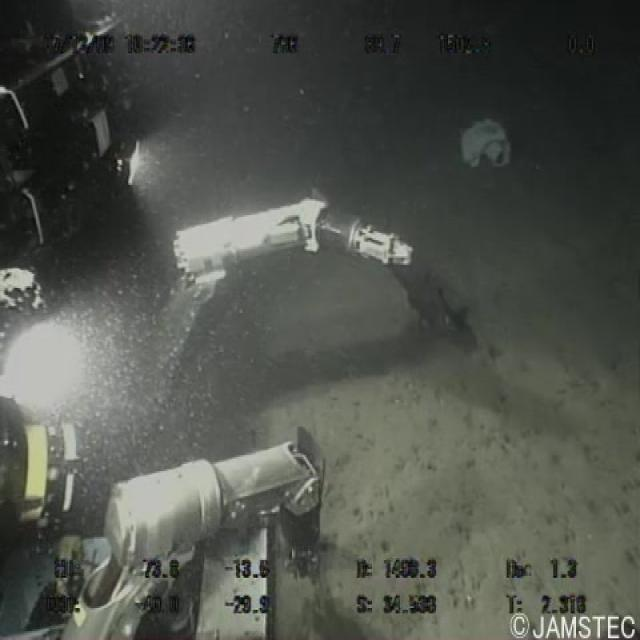plastic: (452, 108, 513, 178)
